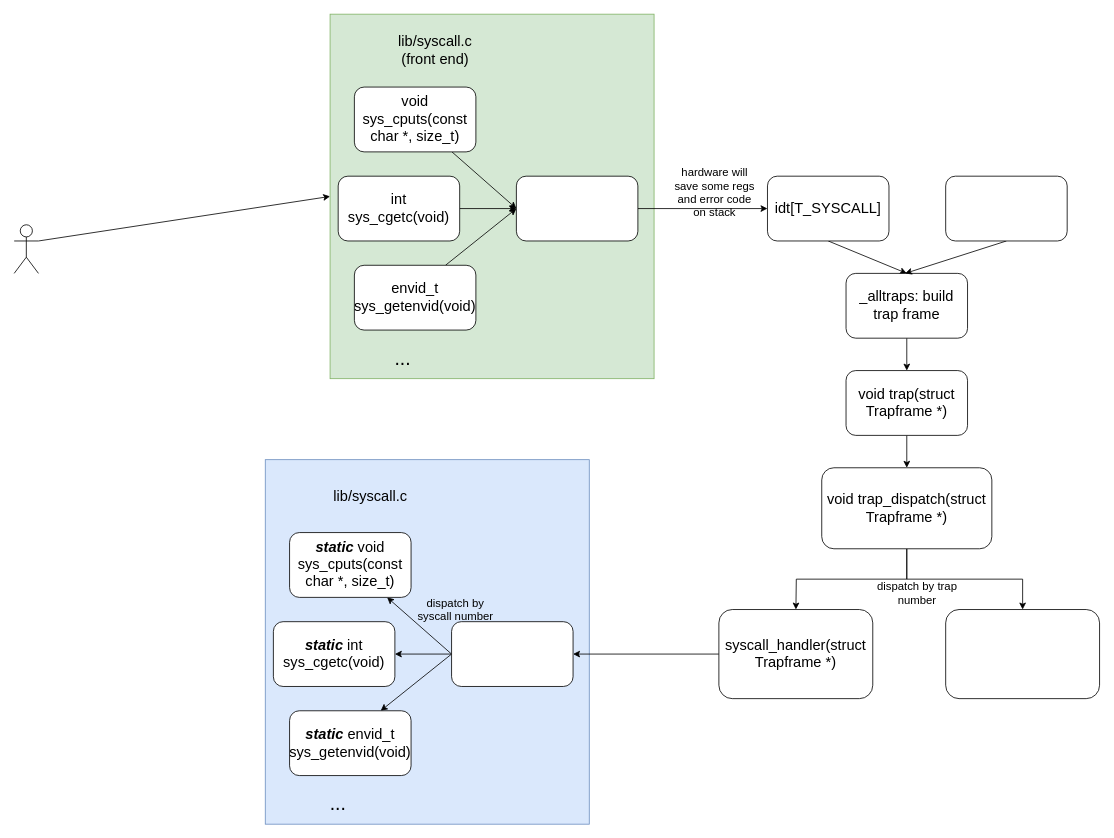
The diagram is 1114 pixels wide and 838 high, and some of its shapes have lost their labels. Here are the shapes that lost their labels. From the top down, the centre of each, then its label:
At (577,208): "static inline int32_t syscall(int num, int check, int a1...)".
At (1006,208): "interrupts or exceptions".
At (25,248): "User".
At (512,653): "int32_t syscall(uint32_t syscallno, uint32_t a1... )".
At (1022,654): "other handlers".
